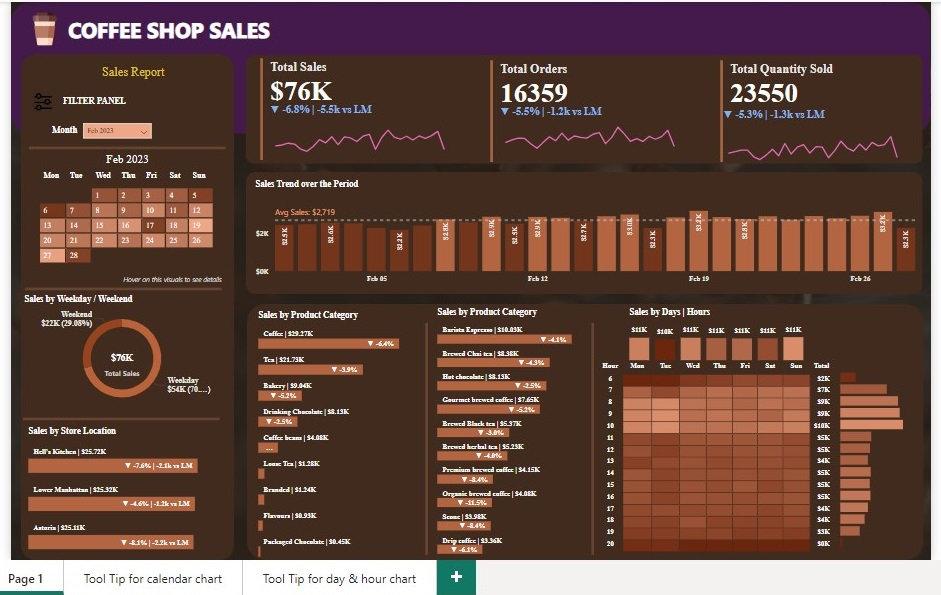

The dashboard page shown, as its layout file describes it:
{"tool":"powerbi","page":{"name":"Page 1","canvas":[1400,850],"ordinal":0},"visuals":[{"type":"shape","box":[0,0,1400.5,200.8],"z":0},{"type":"cardVisual","fields":{"Data":["Transactions.Total Sales"]},"box":[374.1,81,300,165],"z":0,"group":"g1"},{"type":"cardVisual","fields":{"Data":["Transactions.Total Quantity Sold"]},"box":[1075.8,84.3,300,165.5],"z":0,"group":"g3"},{"type":"cardVisual","fields":{"Data":["Transactions.Total Orders"]},"box":[725,84.5,300,165],"z":0,"group":"g2"},{"type":"shape","box":[15.1,78.6,324.6,771.4],"z":1000},{"type":"lineChart","fields":{"Category":["Date Table.Date Hierarchy.Date"],"Y":["Transactions.Total Sales"]},"box":[387.1,156.1,286.2,84.5],"z":1000,"group":"g1"},{"type":"lineChart","fields":{"Category":["Date Table.Date Hierarchy.Date"],"Y":["Transactions.Total Orders"]},"box":[738,159.6,286.2,84.5],"z":1000,"group":"g2"},{"type":"lineChart","fields":{"Category":["Date Table.Date Hierarchy.Date"],"Y":["Transactions.Total Quantity Sold"]},"box":[1078.6,163,286.2,84.5],"z":1000,"group":"g3"},{"type":"shape","box":[358.6,81,1031,165.5],"z":2000},{"type":"textbox","box":[81.7,15,336.7,56.7],"z":3000},{"type":"image","box":[21.7,0,60,81.7],"z":4000},{"type":"slicer","fields":{"Values":["Date Table.Month Year"]},"box":[105.4,179,113.8,35.1],"z":5000},{"type":"group","id":"g1","title":"Group 1","box":[374.1,81,300,165.5],"z":6000},{"type":"group","id":"g2","title":"Group 1","box":[725,84.5,300,165.5],"z":7000},{"type":"group","id":"g3","title":"Group 1","box":[1075.8,84.3,300,165.5],"z":8000},{"type":"pivotTable","fields":{"Rows":["Date Table.Week Number"],"Columns":["Date Table.Day Name"],"Values":["Min(Date Table.Day Number)"]},"box":[15.5,250,306.9,191.4],"z":9000},{"type":"card","fields":{"Values":["Min(Date Table.Month Year)"]},"box":[117.2,222.4,120.7,36.2],"z":10000},{"type":"card","fields":{"Values":["Transactions.Foot Note"]},"box":[162.1,406.9,169,37.9],"z":11000},{"type":"shape","box":[21.8,430,299.5,15.1],"z":12000},{"type":"shape","box":[26.8,214.2,299.5,15.1],"z":13000},{"type":"donutChart","title":"Sales by Weekday / Weekend","fields":{"Category":["Date Table.Weekday / Weekend"],"Y":["Transactions.Total Sales"]},"box":[15.1,445.1,307.9,180.7],"z":14000},{"type":"card","fields":{"Values":["Transactions.Total Sales"]},"box":[118.8,523.7,100.4,55.2],"z":15000},{"type":"shape","box":[18.4,627.5,299.5,15.1],"z":16000},{"type":"clusteredBarChart","title":"Sales by Store Location","fields":{"Category":["Transactions.store_location"],"Y":["Transactions.Placeholder","Transactions.Total Sales"]},"box":[21.8,645.9,296.2,195.8],"z":17000},{"type":"shape","box":[358.1,259.4,1030.7,185.7],"z":18000},{"type":"columnChart","title":"Sales Trend over the Period","fields":{"Category":["Transactions.transaction_date"],"Y":["Transactions.Total Sales"]},"box":[366.4,269.4,1017.3,167.3],"z":19000},{"type":"shape","box":[359.7,460.1,1030.7,389.9],"z":20000},{"type":"clusteredBarChart","title":"Sales by Product Category","fields":{"Y":["Transactions.Placeholder","Transactions.Total Sales"],"Category":["Transactions.product_category"]},"box":[371.5,468.5,249.3,381.5],"z":21000},{"type":"shape","box":[620.8,488.6,23.4,353.1],"z":22000},{"type":"clusteredBarChart","title":"Sales by Product Category","fields":{"Y":["Transactions.Placeholder","Transactions.Total Sales"],"Category":["Transactions.product_type"]},"box":[644.2,465.2,249.3,381.5],"z":23000},{"type":"shape","box":[875.1,488.6,23.4,353.1],"z":24000},{"type":"pivotTable","fields":{"Rows":["Transactions.Hour"],"Columns":["Date Table.Day Name"],"Values":["Transactions.Total Sales"]},"box":[890.2,543.8,369.8,306.2],"z":25000},{"type":"barChart","fields":{"Category":["Transactions.Hour"],"Y":["Transactions.Total Sales"]},"box":[1258.3,552.2,108.8,284.4],"z":26000},{"type":"columnChart","title":"Sales by Days | Hours","fields":{"Y":["Transactions.Total Sales"],"Category":["Date Table.Day Name"]},"box":[937,465.2,276.1,87],"z":27000},{"type":"textbox","box":[51.9,181.2,60,33.8],"z":28000},{"type":"textbox","box":[126.9,91.2,119.4,33.8],"z":29000},{"type":"textbox","box":[66.9,137.5,120,33.8],"z":30000},{"type":"image","box":[21.7,130,55,45],"z":31000}]}

Visuals, with their boxes on the page's 1400x850 design canvas (x1, y1, x2, y2). These are canvas units, not pixel positions in the 941x595 screenshot, which may show the page scaled, cropped or inside an application window:
shape: bbox=(0, 0, 1400, 201)
cardVisual - Transactions.Total Sales: bbox=(374, 81, 674, 246)
cardVisual - Transactions.Total Quantity Sold: bbox=(1076, 84, 1376, 250)
cardVisual - Transactions.Total Orders: bbox=(725, 84, 1025, 250)
shape: bbox=(15, 79, 340, 850)
lineChart - Date Table.Date Hierarchy.Date x Transactions.Total Sales: bbox=(387, 156, 673, 241)
lineChart - Date Table.Date Hierarchy.Date x Transactions.Total Orders: bbox=(738, 160, 1024, 244)
lineChart - Date Table.Date Hierarchy.Date x Transactions.Total Quantity Sold: bbox=(1079, 163, 1365, 248)
shape: bbox=(359, 81, 1390, 246)
textbox: bbox=(82, 15, 418, 72)
image: bbox=(22, 0, 82, 82)
slicer - Date Table.Month Year: bbox=(105, 179, 219, 214)
"Group 1" group: bbox=(374, 81, 674, 246)
"Group 1" group: bbox=(725, 84, 1025, 250)
"Group 1" group: bbox=(1076, 84, 1376, 250)
pivotTable - Date Table.Week Number x Date Table.Day Name: bbox=(16, 250, 322, 441)
card - Min(Date Table.Month Year): bbox=(117, 222, 238, 259)
card - Transactions.Foot Note: bbox=(162, 407, 331, 445)
shape: bbox=(22, 430, 321, 445)
shape: bbox=(27, 214, 326, 229)
"Sales by Weekday / Weekend" donutChart: bbox=(15, 445, 323, 626)
card - Transactions.Total Sales: bbox=(119, 524, 219, 579)
shape: bbox=(18, 628, 318, 643)
"Sales by Store Location" clusteredBarChart: bbox=(22, 646, 318, 842)
shape: bbox=(358, 259, 1389, 445)
"Sales Trend over the Period" columnChart: bbox=(366, 269, 1384, 437)
shape: bbox=(360, 460, 1390, 850)
"Sales by Product Category" clusteredBarChart: bbox=(372, 468, 621, 850)
shape: bbox=(621, 489, 644, 842)
"Sales by Product Category" clusteredBarChart: bbox=(644, 465, 894, 847)
shape: bbox=(875, 489, 898, 842)
pivotTable - Transactions.Hour x Date Table.Day Name: bbox=(890, 544, 1260, 850)
barChart - Transactions.Hour x Transactions.Total Sales: bbox=(1258, 552, 1367, 837)
"Sales by Days | Hours" columnChart: bbox=(937, 465, 1213, 552)
textbox: bbox=(52, 181, 112, 215)
textbox: bbox=(127, 91, 246, 125)
textbox: bbox=(67, 138, 187, 171)
image: bbox=(22, 130, 77, 175)
